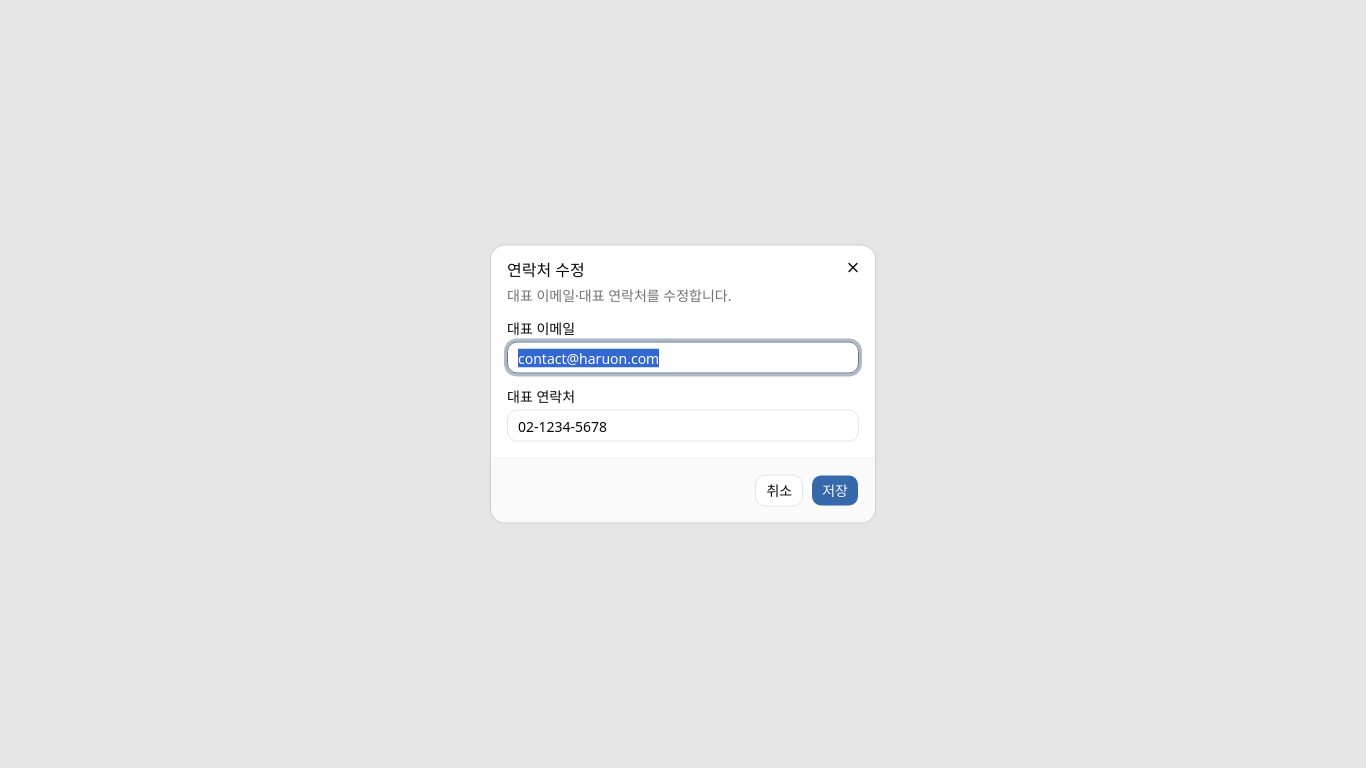
Scenario: CompanyContactEditDialog › 서버 실패 시 다이얼로그가 닫히지 않고 root 에러가 표시된다(실패가 삼켜지지 않음)
The width and height of the screenshot is (1366, 768).
Replace the text in the field labelled "대표 이메일" with "new@haruon.com" at (683, 358), box [507,342,859,374]
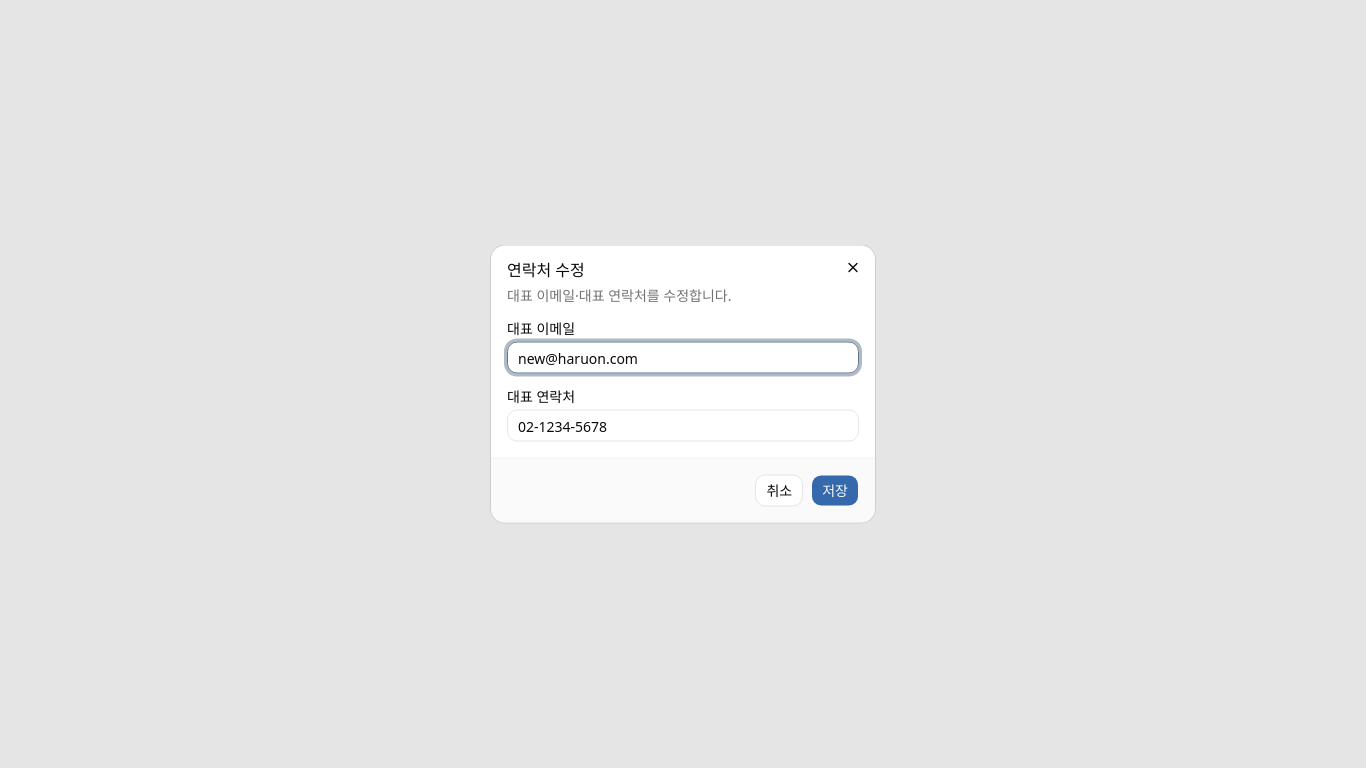
Click the button "저장" at (835, 490), box [811,474,859,506]
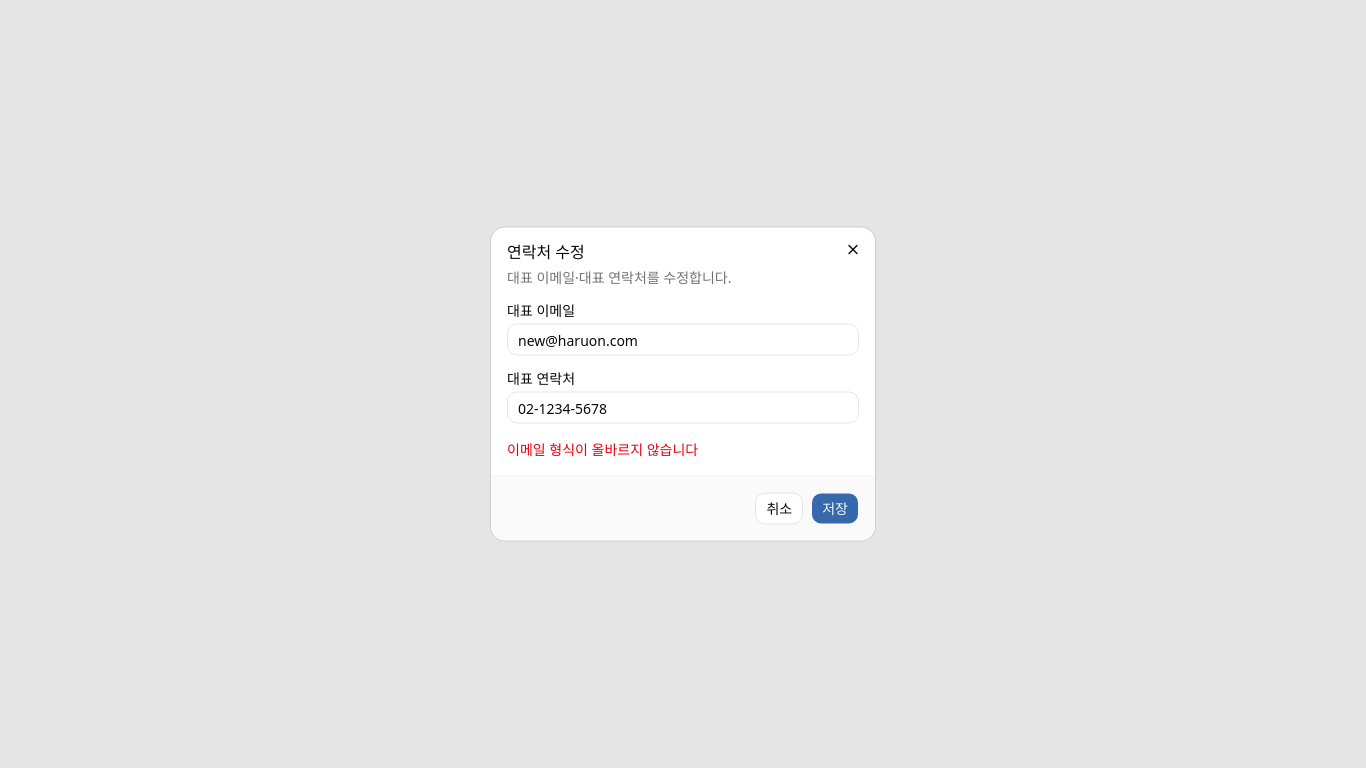
Check: the text "이메일 형식이 올바르지 않습니다" is shown, box [507,440,698,458]
